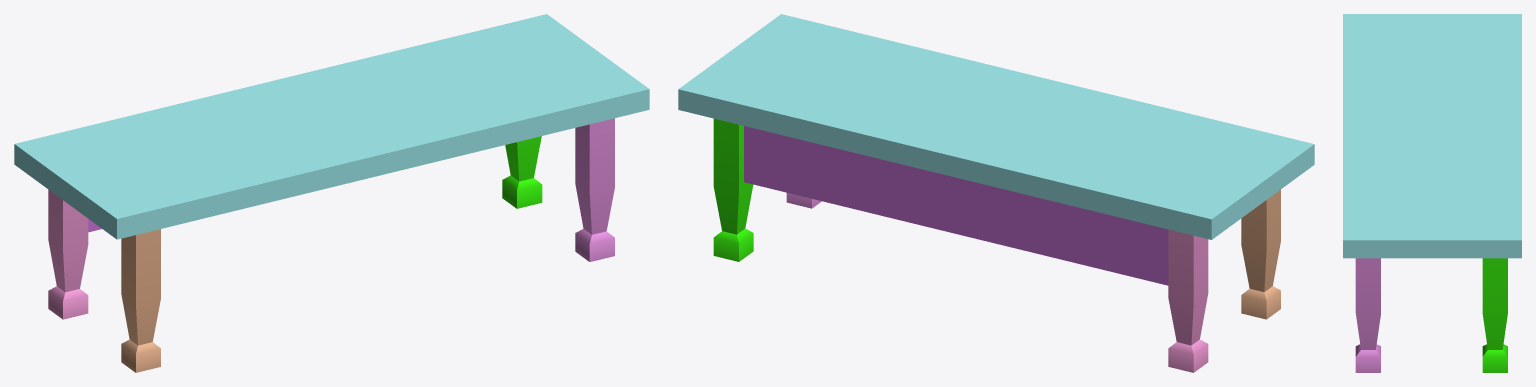
The picture shows the model from 3 angles, left to right: view 1: azimuth 30°, elevation 25°; view 2: azimuth 150°, elevation 25°; view 3: azimuth 270°, elevation 25°; orthographic projection. The views are drawn at different scales.
Parts seen in each view (by area): view 1: Object_3.003, Object_3.020, Object_3.009, Object_3.031, Object_3.042; view 2: Object_3.003, Object_3, Object_3.031, Object_3.042, Object_3.009; view 3: Object_3.003, Object_3.042, Object_3.020.
Part boxes in pixels (x1=…): Object_3.003: x1=14, y1=14, x2=649, y2=239; Object_3.020: x1=575, y1=118, x2=614, y2=261; Object_3.009: x1=121, y1=229, x2=160, y2=372; Object_3.031: x1=48, y1=189, x2=88, y2=319; Object_3.042: x1=502, y1=136, x2=542, y2=208; Object_3.003: x1=678, y1=14, x2=1314, y2=239; Object_3: x1=744, y1=126, x2=1168, y2=285; Object_3.031: x1=1168, y1=229, x2=1208, y2=372; Object_3.042: x1=713, y1=118, x2=753, y2=261; Object_3.009: x1=1241, y1=189, x2=1280, y2=319; Object_3.003: x1=1343, y1=14, x2=1521, y2=258; Object_3.042: x1=1482, y1=258, x2=1507, y2=372; Object_3.020: x1=1355, y1=258, x2=1380, y2=372.
Size of the model in its own units: 1 by 0.2971 by 0.334.
